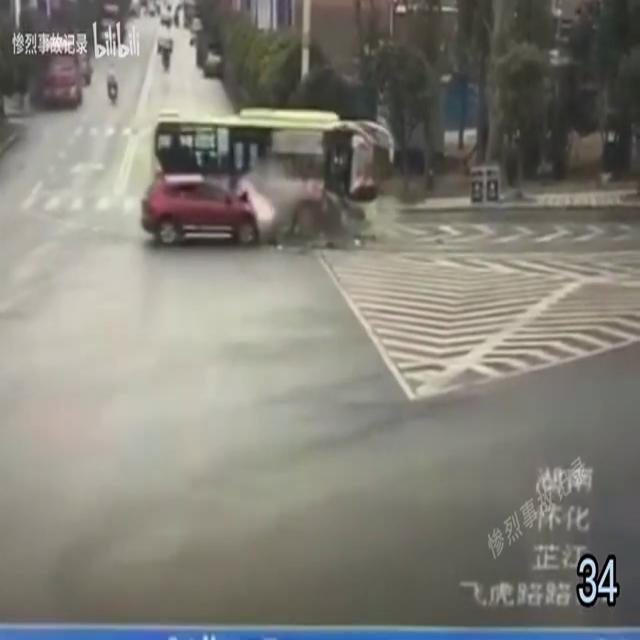accident: (140, 108, 380, 250)
